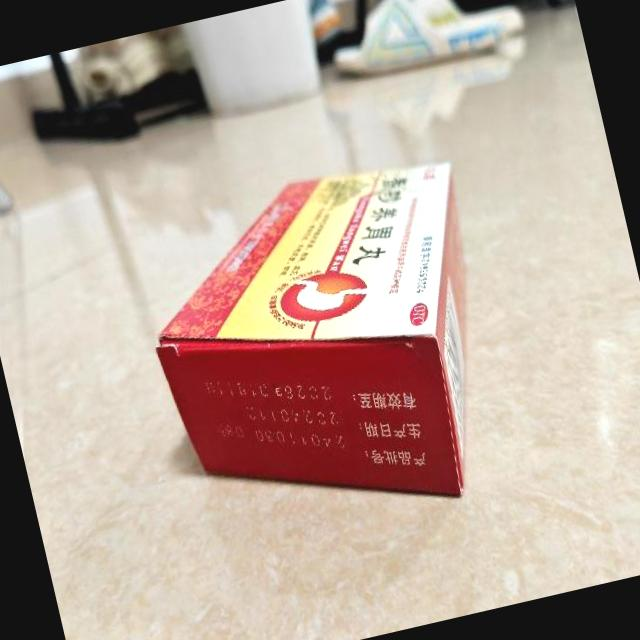box: (127, 143, 524, 552)
